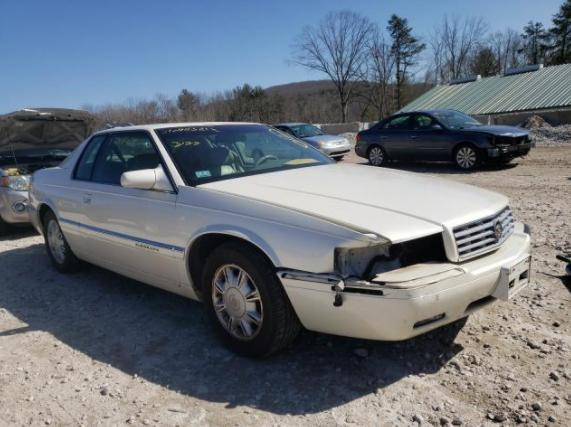Back-wheel: (44, 211, 78, 272)
Back-window: (74, 136, 106, 178)
Fender: (173, 186, 388, 286)
Front-bumper: (275, 224, 531, 342)
Front-door: (79, 131, 181, 283)
Front-wheel: (202, 241, 302, 358)
Front-window: (93, 134, 160, 182)
Grille: (454, 206, 514, 259)
Hood: (194, 162, 509, 245)
Mirror: (120, 163, 174, 190)
Quarter-panel: (28, 167, 91, 255)
Rocker-panel: (72, 251, 203, 303)
Roof: (95, 122, 265, 133)
Windshield: (154, 124, 337, 186)
